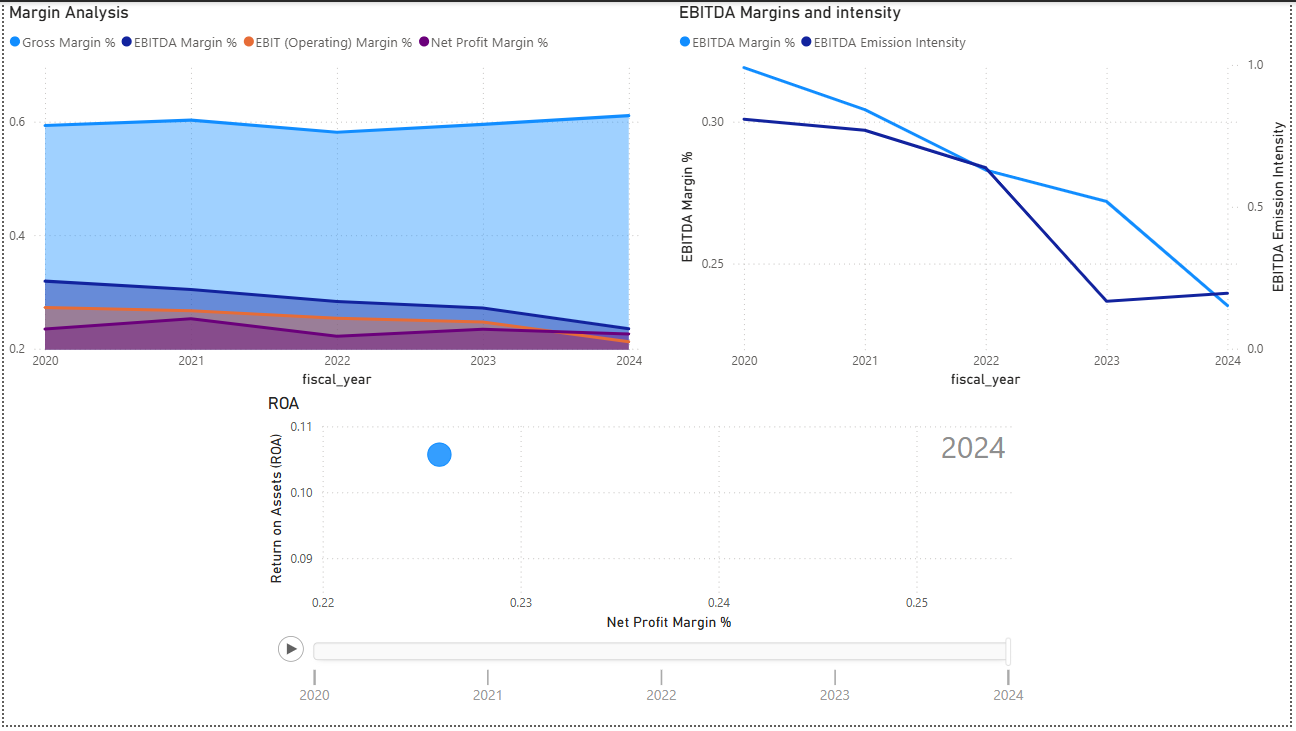

This screenshot's page, from the dashboard's own definition file:
{"tool":"powerbi","page":{"name":"Margins - 1","canvas":[1280,720],"ordinal":1},"visuals":[{"type":"areaChart","title":"Margin Analysis","fields":{"Category":["Financial.fiscal_year"],"Y":["Profitability.Gross Margin %","Profitability.EBITDA Margin %","Profitability.EBIT (Operating) Margin %","Profitability.Net Profit Margin %"]},"box":[0,0,640,388.8],"z":0},{"type":"lineChart","title":"EBITDA Margins and intensity","fields":{"Y":["Profitability.EBITDA Margin %"],"Category":["Financial.fiscal_year"],"Y2":["Intensity.EBITDA Emission Intensity"]},"box":[666.2,0,613.8,388.8],"z":1000},{"type":"scatterChart","title":"ROA","fields":{"Y":["Profitability.Return on Assets (ROA)"],"X":["Profitability.Net Profit Margin %"],"Size":["Base.Total Revenue"],"Play":["Financial.fiscal_year"]},"box":[257.5,389.4,766.3,320.9],"z":2000}]}

Visuals, with their boxes in screenshot pixels (x1, y1, x2, y2), scaled from the page's 1280x720 canvas onto the 1296x731 screenshot:
"Margin Analysis" areaChart: [left=0, top=0, right=648, bottom=395]
"EBITDA Margins and intensity" lineChart: [left=675, top=0, right=1295, bottom=395]
"ROA" scatterChart: [left=261, top=395, right=1037, bottom=721]
